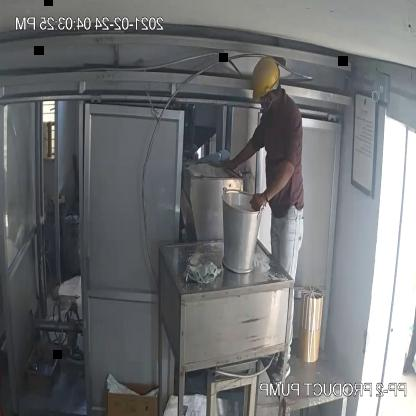helmet: (250, 55, 280, 100)
